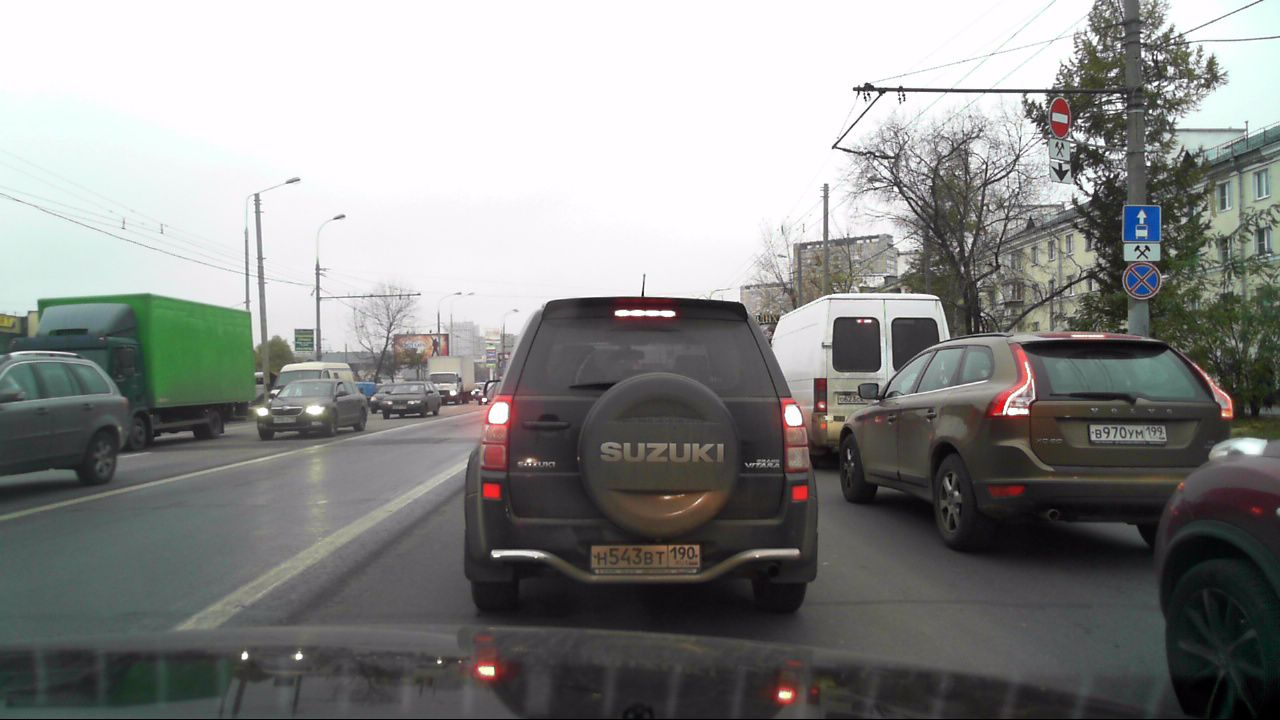No Parking: (1122, 264, 1162, 299)
